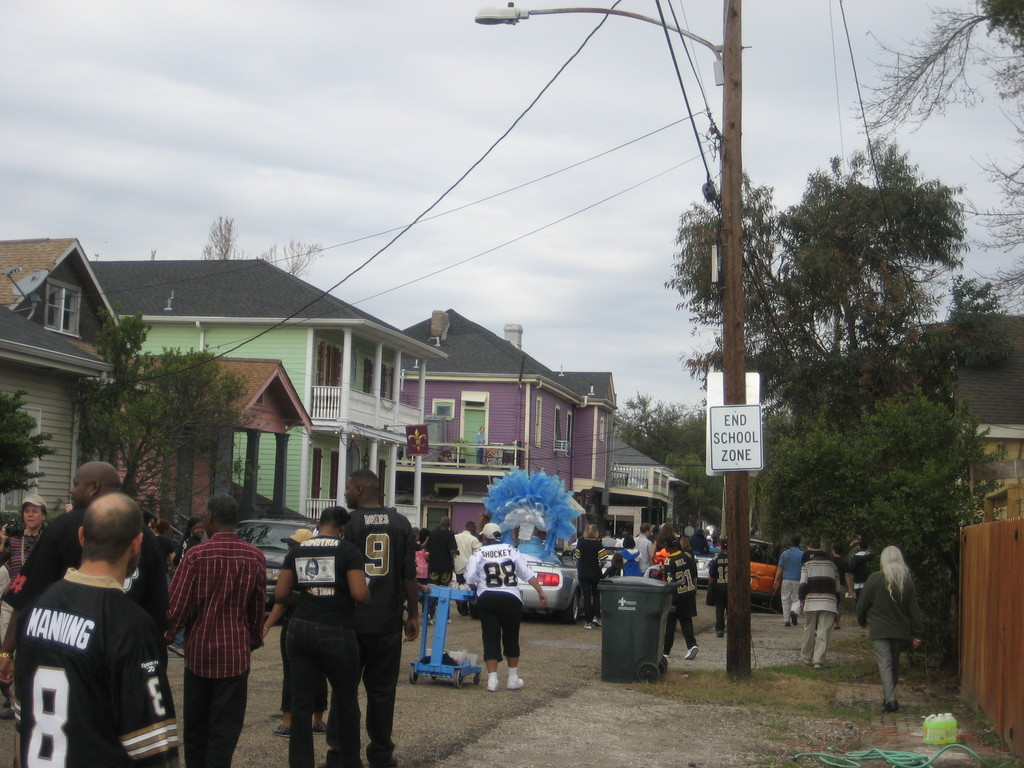Tree: (657, 120, 1023, 735), (752, 380, 1009, 678), (853, 0, 1023, 325)
